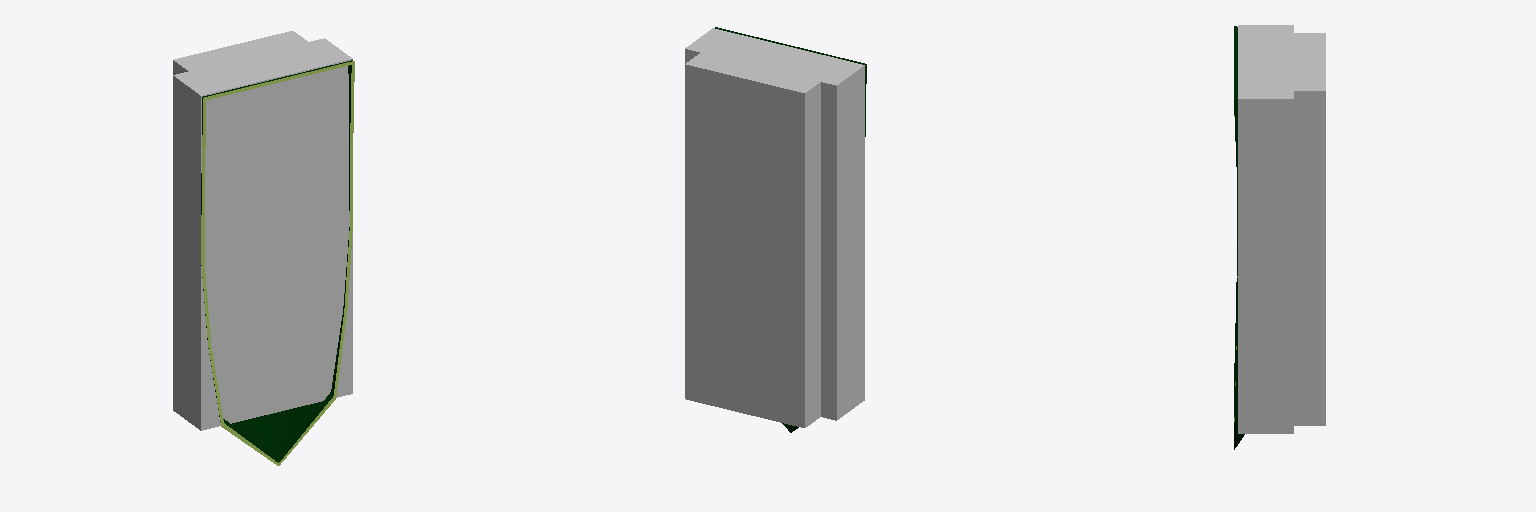
File: boat4.obj
The picture shows the model from 3 angles: view 1: azimuth 30°, elevation 25°; view 2: azimuth 150°, elevation 25°; view 3: azimuth 270°, elevation 25°; orthographic projection.
Parts seen in each view (by area): view 1: Cube.001, Boats_Cube.012, Cube.002; view 2: Cube.002, Cube.001; view 3: Cube.001, Cube.002, Boats_Cube.012.
Boxes of the visible parts, box(x1,y1,x2,y2) form: Cube.001: box(173, 38, 352, 430); Boats_Cube.012: box(201, 60, 354, 465); Cube.002: box(173, 31, 309, 79); Cube.002: box(685, 53, 827, 427); Cube.001: box(685, 28, 864, 420); Cube.001: box(1238, 25, 1293, 433); Cube.002: box(1270, 33, 1325, 425); Boats_Cube.012: box(1234, 26, 1244, 449).
Bounding box in the file's own units: 4.67 × 11.38 × 2.45.